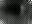person: (20, 4, 26, 17)
